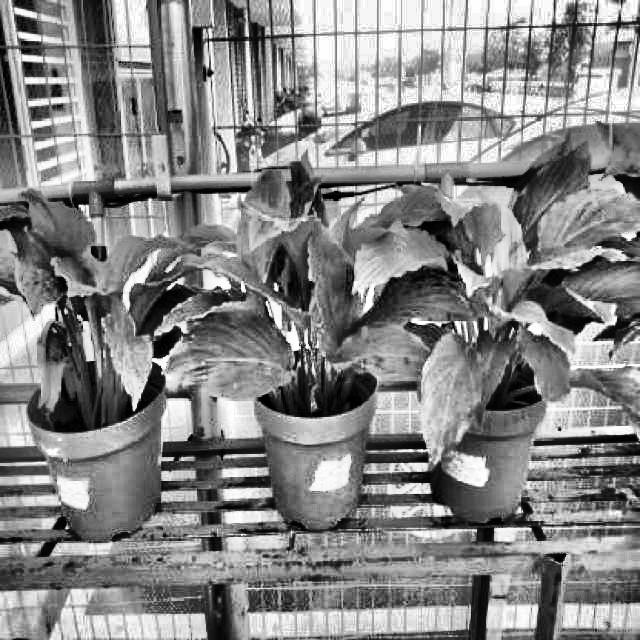plants: (381, 130, 640, 473), (163, 147, 459, 420), (0, 176, 220, 430)
